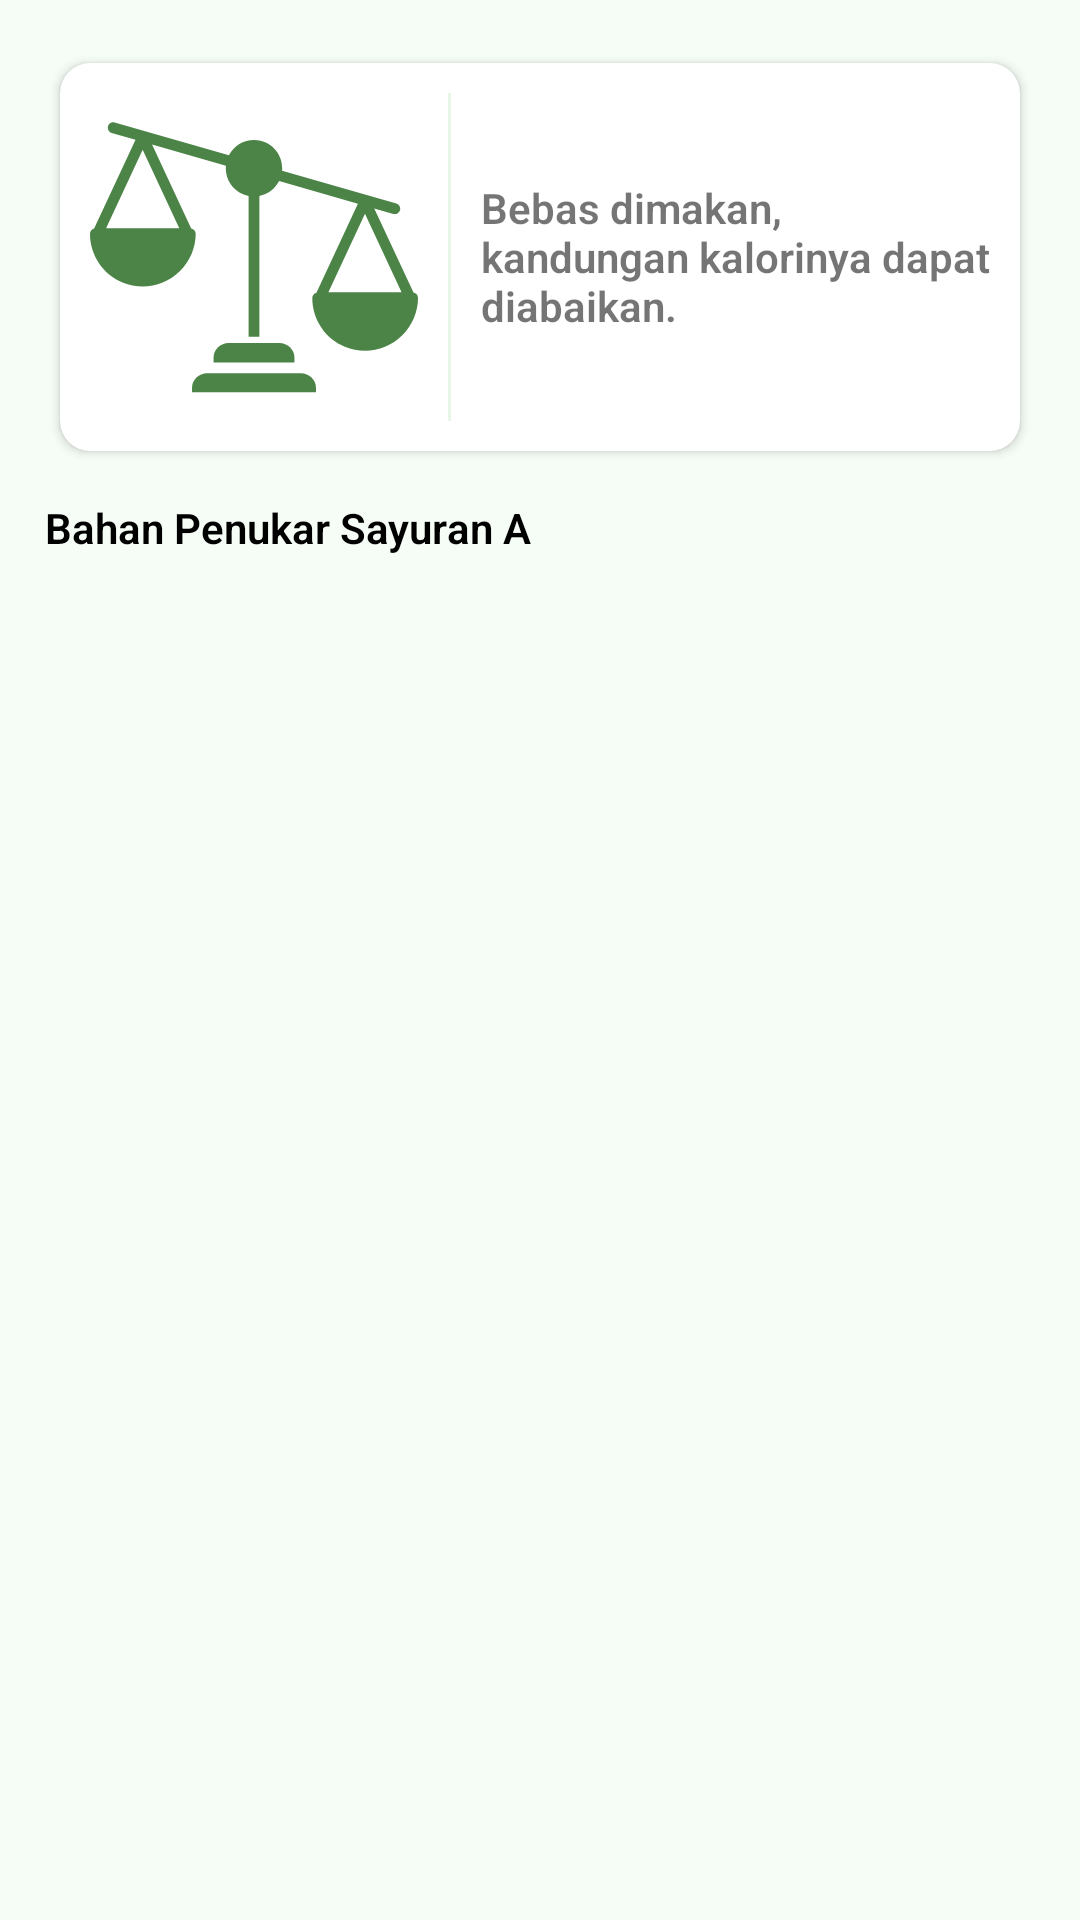

Icons on this 1080 x 1920 Android screen, each with the point to tap as (x=x, y=y):
balance: (x=254, y=257)
